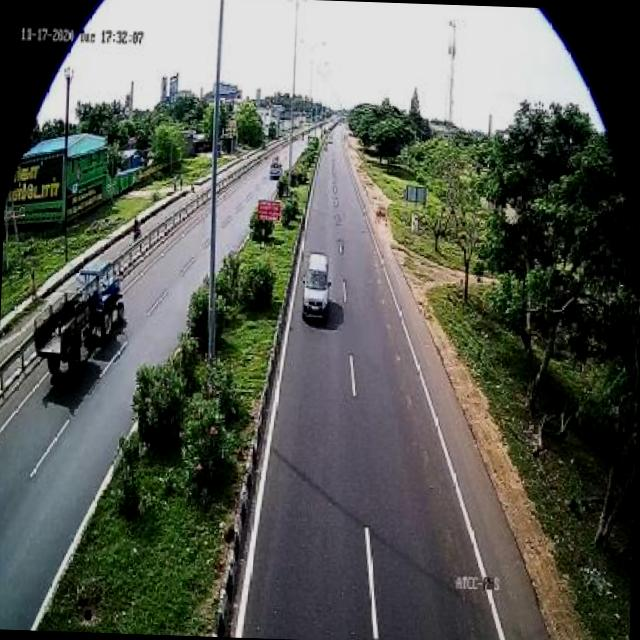car: (301, 247, 336, 328)
